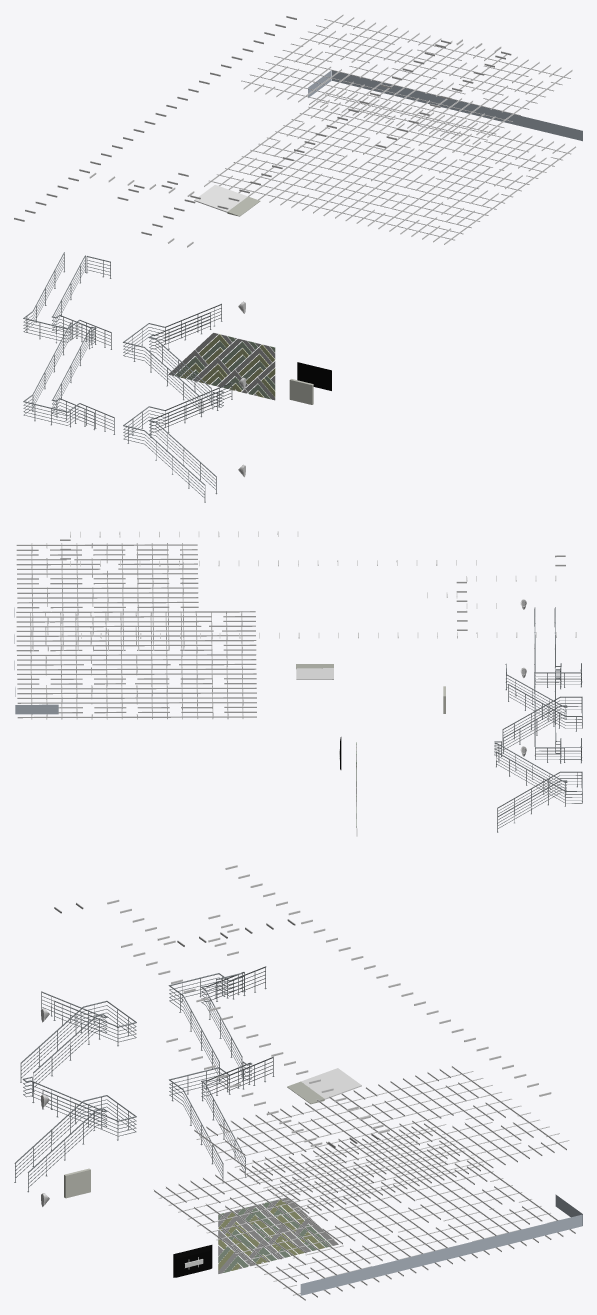
File: pt-111-puesto-mando-hq-p08-v00.glb
The picture shows the model from 3 angles, top to bottom: view 1: azimuth 30°, elevation 25°; view 2: azimuth 150°, elevation 25°; view 3: azimuth 270°, elevation 25°; orthographic projection. The views are drawn at different scales.
Parts seen in each view (by area): view 1: 10_oMMzNf76O7gyX7KCMhi, 0sN4JvLG94ke$tC0wCdc2_, 0sN4JvLG94ke$tC0wCdc2K, 3EAwSULnL99uHAn8mf5$4r, 2tn903LCD2fxfFf0OoJjO1, 0rL7$6v092Fu80eHvuRKGY, 0sN4JvLG94ke$tC0wCdc32, 0rL7$6v092Fu80eHvuRKEX, 3EAwSULnL99uHAn8mf5$4v, 3EAwSULnL99uHAn8mf5$1$, 2ggVsN6Sj4ovO7nvSdDx9J, 1_cgQMVrb5TeAxlbYNp3GR (+2 smaller); view 2: 0rL7$6v092Fu80eHvuRKGY, 0rL7$6v092Fu80eHvuRKEX, 2ggVsN6Sj4ovO7nvSdDx9J, 1nK4hvcMvFghSPBV1lPpbw, 2tn903LCD2fxfFf0OoJjO1, 3EAwSULnL99uHAn8mf5$4r, 3hhqu3yI5BK9K0jjGxbM1s, 3hhqu3yI5BK9K0jjGxbM1u, 3hhqu3yI5BK9K0jjGxbM1e, 3hhqu3yI5BK9K0jjGxbM1E, 3hhqu3yI5BK9K0jjGxbM1C, 3hhqu3yI5BK9K0jjGxbM1q (+5 smaller); view 3: 10_oMMzNf76O7gyX7KCMhi, 0sN4JvLG94ke$tC0wCdc2_, 0sN4JvLG94ke$tC0wCdc2K, 3EAwSULnL99uHAn8mf5$4r, 2tn903LCD2fxfFf0OoJjO1, 0sN4JvLG94ke$tC0wCdc32, 0rL7$6v092Fu80eHvuRKGY, 0rL7$6v092Fu80eHvuRKEX, 3EAwSULnL99uHAn8mf5$4v, 3EAwSULnL99uHAn8mf5$1$, 1_cgQMVrb5TeAxlbYNp3GR, 2ggVsN6Sj4ovO7nvSdDx9J (+3 smaller).
Part boxes in pixels (x1,y1,x2,y2): 10_oMMzNf76O7gyX7KCMhi: (332,70,582,141); 0sN4JvLG94ke$tC0wCdc2_: (168,332,275,400); 0sN4JvLG94ke$tC0wCdc2K: (180,334,275,397); 3EAwSULnL99uHAn8mf5$4r: (123,382,232,502); 2tn903LCD2fxfFf0OoJjO1: (123,303,222,413); 0rL7$6v092Fu80eHvuRKGY: (23,322,114,434); 0sN4JvLG94ke$tC0wCdc32: (174,336,275,399); 0rL7$6v092Fu80eHvuRKEX: (23,252,111,349); 3EAwSULnL99uHAn8mf5$4v: (149,391,224,494); 3EAwSULnL99uHAn8mf5$1$: (148,312,211,405); 2ggVsN6Sj4ovO7nvSdDx9J: (51,327,96,430); 1_cgQMVrb5TeAxlbYNp3GR: (194,185,247,212); 0rL7$6v092Fu80eHvuRKGY: (496,751,582,823); 0rL7$6v092Fu80eHvuRKEX: (502,684,582,745); 2ggVsN6Sj4ovO7nvSdDx9J: (494,741,567,832); 1nK4hvcMvFghSPBV1lPpbw: (502,674,567,753); 2tn903LCD2fxfFf0OoJjO1: (534,607,582,687); 3EAwSULnL99uHAn8mf5$4r: (534,672,582,763); 3hhqu3yI5BK9K0jjGxbM1s: (17,697,256,698); 3hhqu3yI5BK9K0jjGxbM1u: (17,673,256,674); 3hhqu3yI5BK9K0jjGxbM1e: (17,702,256,703); 3hhqu3yI5BK9K0jjGxbM1E: (17,659,256,660); 3hhqu3yI5BK9K0jjGxbM1C: (17,654,256,655); 3hhqu3yI5BK9K0jjGxbM1q: (17,692,256,694); 10_oMMzNf76O7gyX7KCMhi: (300,1214,582,1295); 0sN4JvLG94ke$tC0wCdc2_: (218,1197,338,1273); 0sN4JvLG94ke$tC0wCdc2K: (218,1199,324,1270); 3EAwSULnL99uHAn8mf5$4r: (14,1089,136,1182); 2tn903LCD2fxfFf0OoJjO1: (20,1000,136,1082); 0sN4JvLG94ke$tC0wCdc32: (218,1201,331,1272); 0rL7$6v092Fu80eHvuRKGY: (169,1056,274,1183); 0rL7$6v092Fu80eHvuRKEX: (168,966,266,1082); 3EAwSULnL99uHAn8mf5$4v: (22,1076,107,1192); 3EAwSULnL99uHAn8mf5$1$: (33,991,107,1091); 1_cgQMVrb5TeAxlbYNp3GR: (301,1068,361,1099); 2ggVsN6Sj4ovO7nvSdDx9J: (201,1061,252,1177).
Size of the model in its own units: 32.92 by 13.12 by 24.02.
